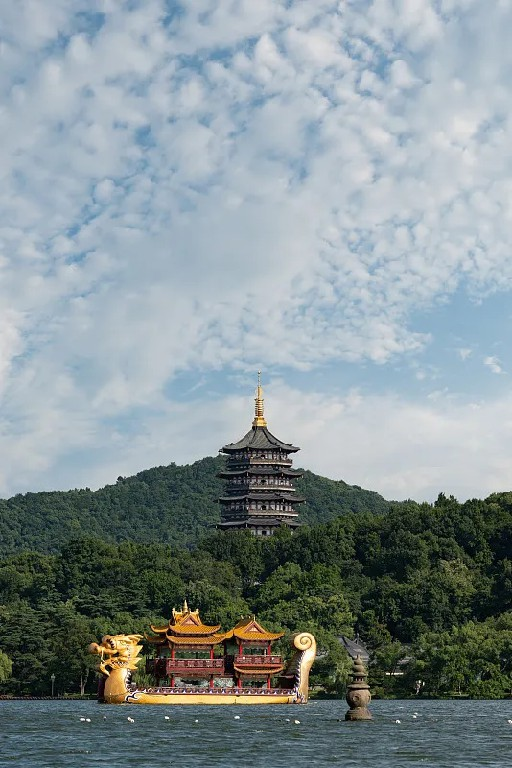Leifeng: (215, 369, 307, 547)
